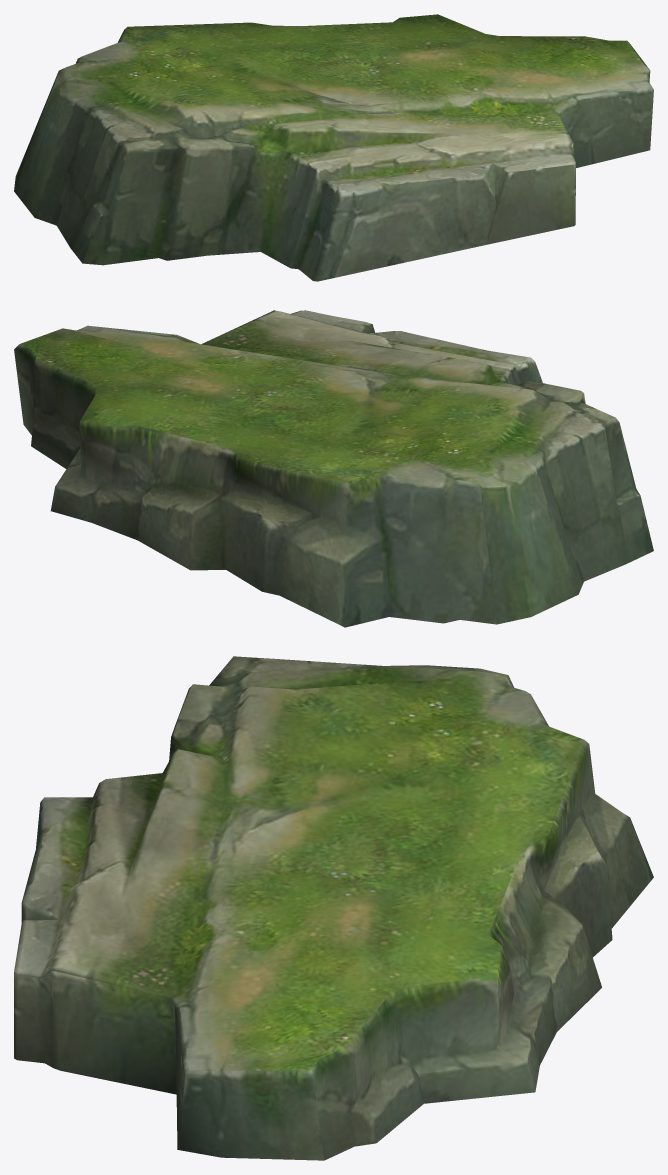
File: Island_003_Shitou_006.FBX
3 views of the same model, one above another, from view 1: azimuth 30°, elevation 25°; view 2: azimuth 150°, elevation 25°; view 3: azimuth 270°, elevation 25° (orthographic). The views are drawn at different scales.
Parts seen in each view (by area): view 1: Island_003_Stone_A006; view 2: Island_003_Stone_A006; view 3: Island_003_Stone_A006.
Part boxes in pixels (x1,y1,x2,y2): Island_003_Stone_A006: (14, 14, 653, 281); Island_003_Stone_A006: (14, 310, 653, 627); Island_003_Stone_A006: (14, 656, 653, 1160).
Size of the model in its own units: 2582 by 528 by 1794.
